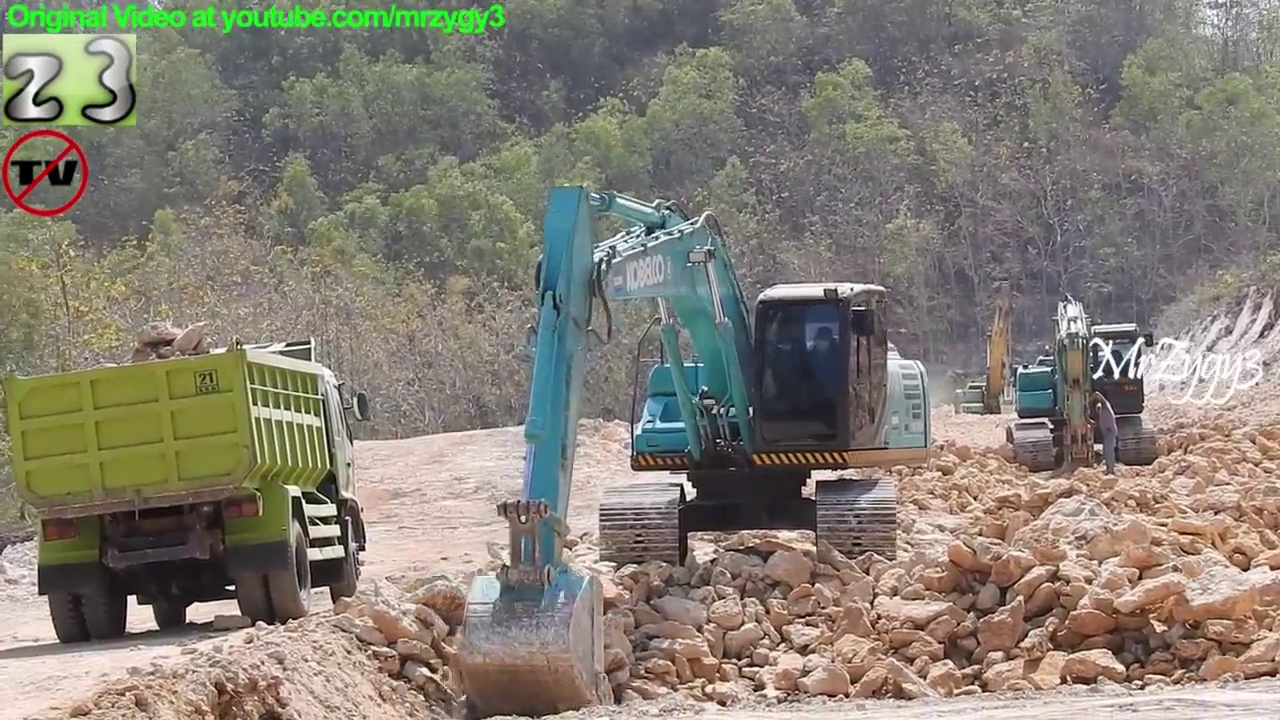excavator: (454, 175, 938, 720), (950, 275, 1050, 430)
excavator breaker: (999, 283, 1164, 489)
truck: (1, 331, 377, 650)
worker: (1079, 379, 1133, 481)
